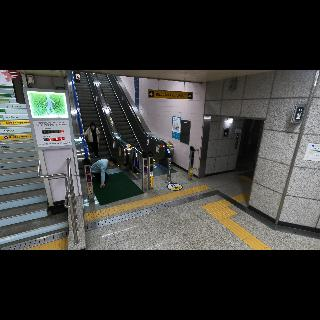anomaly: (89, 156, 118, 190)
normal: (81, 121, 102, 159)
